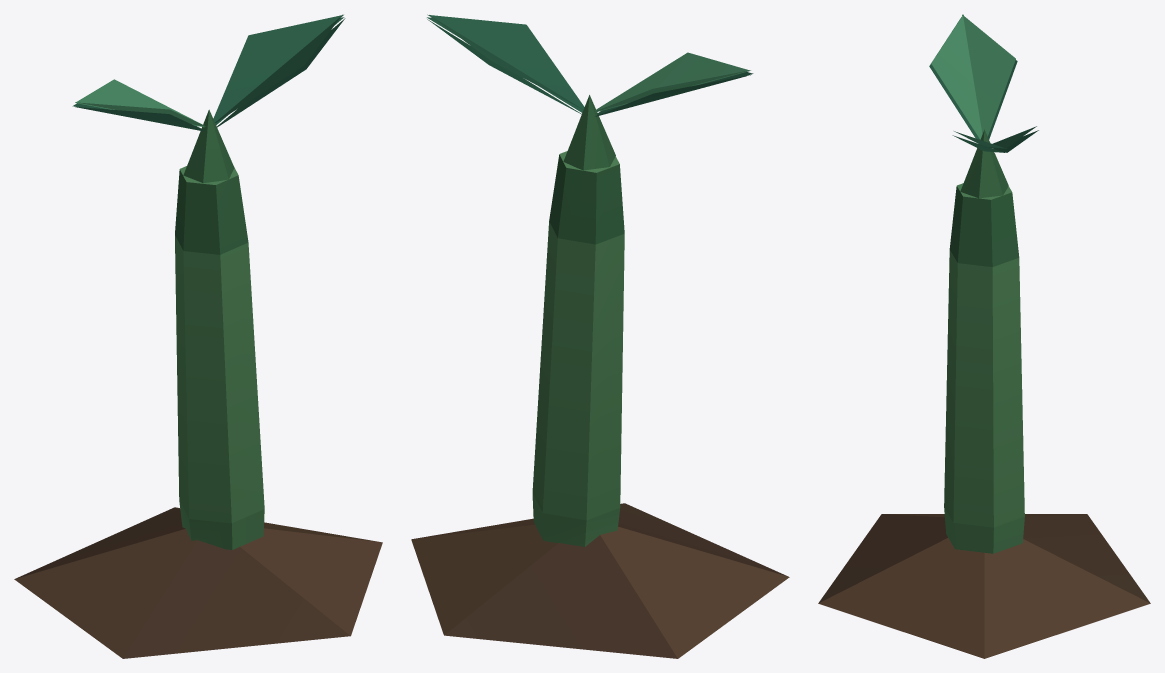
The model's file is custom-propagulo-mangue-plantado.glb.
3 renders of one model, left to right at view 1: azimuth 30°, elevation 25°; view 2: azimuth 150°, elevation 25°; view 3: azimuth 270°, elevation 25°, orthographic. The views are drawn at different scales.
Visible parts, largest first — view 1: propagulo-mangue-plantado; view 2: propagulo-mangue-plantado; view 3: propagulo-mangue-plantado.
Part boxes in pixels (left/top/right/bottom): propagulo-mangue-plantado: left=14, top=14, right=382, bottom=658; propagulo-mangue-plantado: left=411, top=14, right=789, bottom=658; propagulo-mangue-plantado: left=818, top=14, right=1150, bottom=658.
Bounding box in the file's own units: 0.4813 × 0.7525 × 0.4565.
